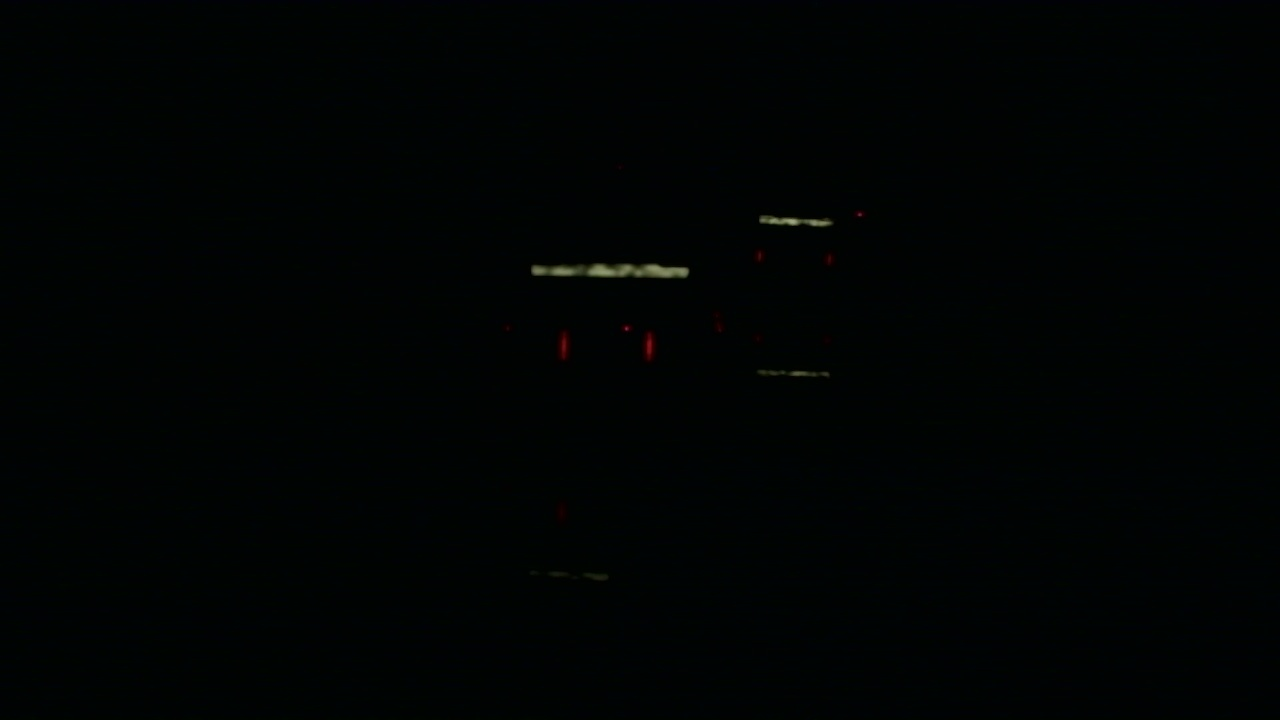lamp: (641, 332, 658, 360), (555, 332, 565, 363)
pair1: (560, 332, 654, 359)
